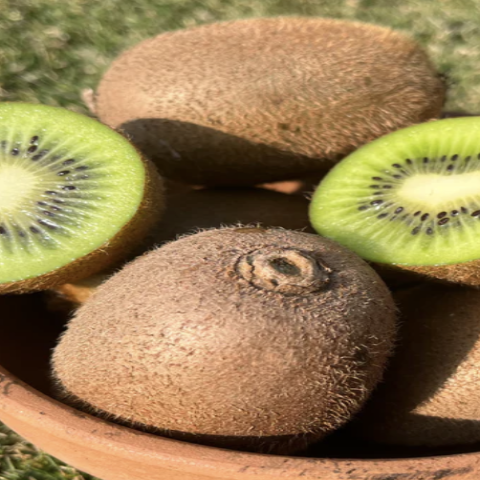kiwi: (37, 189, 419, 460), (58, 12, 455, 193)
